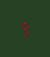nine: (19, 20, 29, 36)
